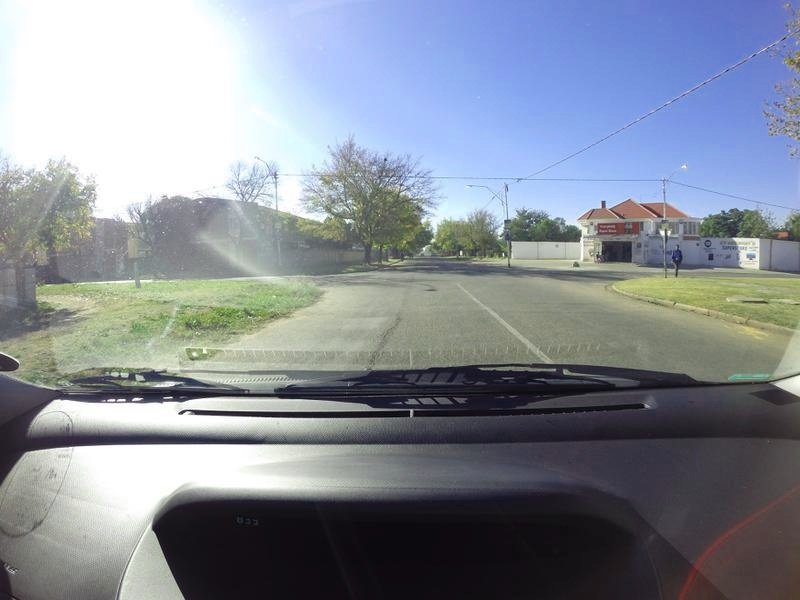pothole: (426, 285, 439, 294)
